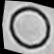no answer: (2, 1, 54, 54)
